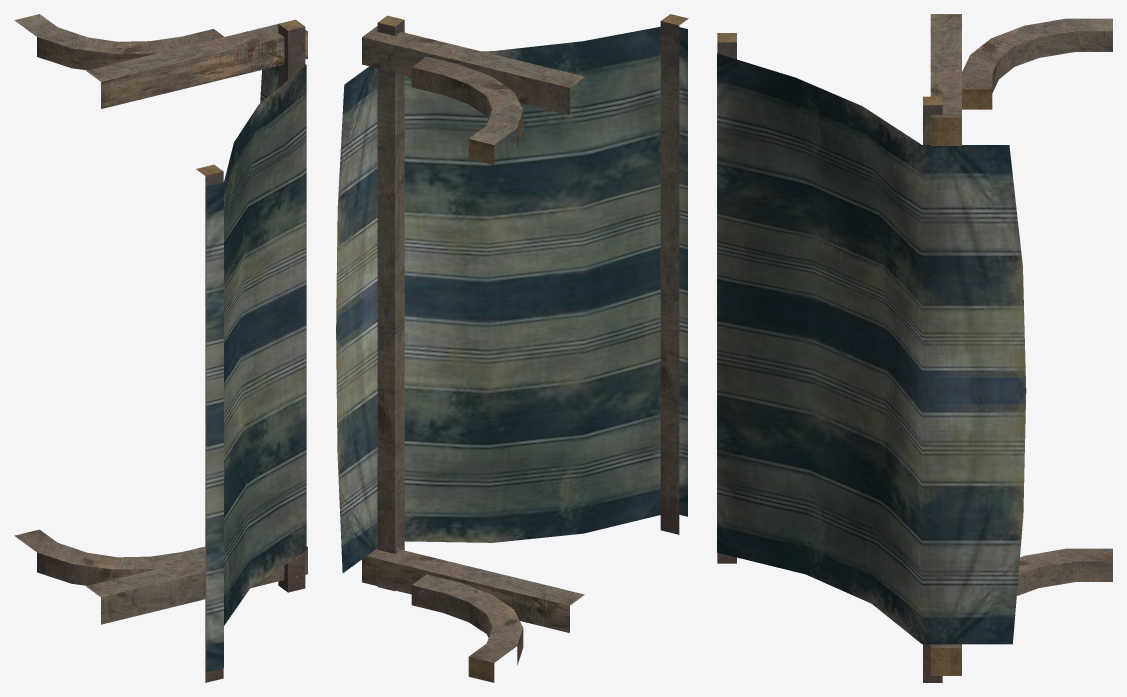
The model's file is awning_2x4-5_1.glb.
3 views of the same model, side by side, from view 1: azimuth 30°, elevation 25°; view 2: azimuth 150°, elevation 25°; view 3: azimuth 270°, elevation 25° (orthographic). The views are drawn at different scales.
Size of the model in its own units: 24.06 by 62.45 by 38.79.
1 material, 1 textured.
